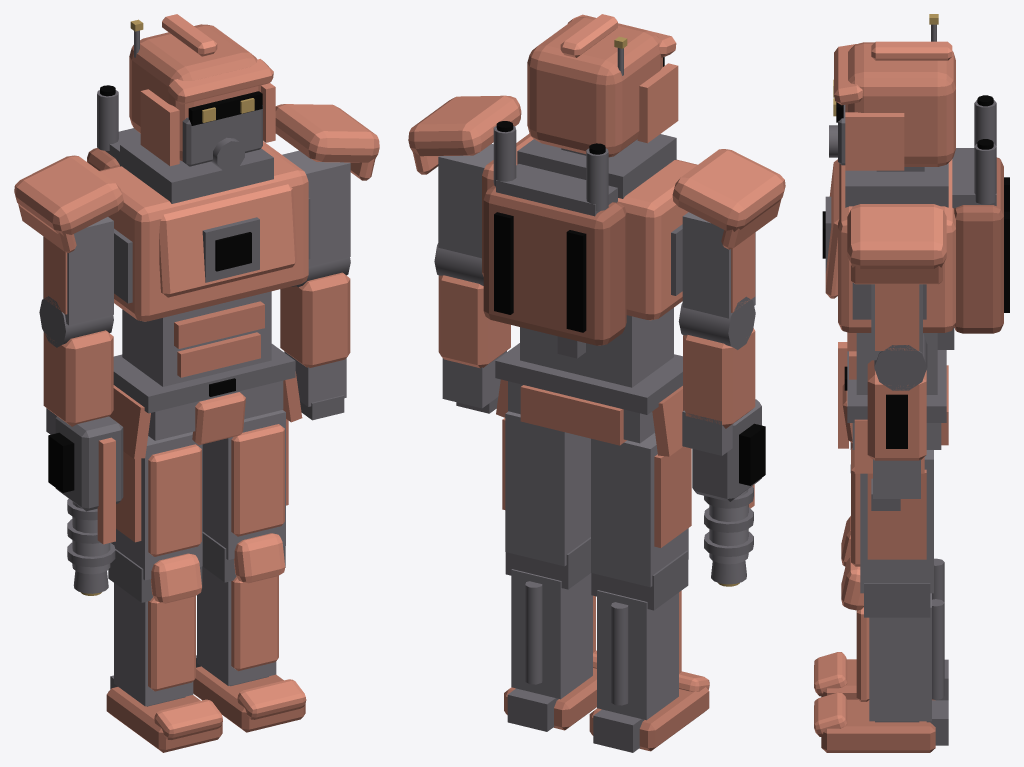
Rendered from husk.glb.
3 views of the same model, side by side, from view 1: azimuth 30°, elevation 25°; view 2: azimuth 150°, elevation 25°; view 3: azimuth 270°, elevation 25° (orthographic). The views are drawn at different scales.
Visible parts, largest first — view 1: husk.008, husk*1.08, husk*0.009, husk*0.014, husk.013, husk*0.011, husk.004, husk.001, gunmetal*1.006, gunmetal.012, husk.012, gunmetal.008 (+46 smaller); view 2: husk*0.6, husk*0.009, gunmetal*1.3, gunmetal*1.002, husk.008, gunmetal*1.001, gunmetal*1.004, gunmetal*1.006, husk.013, husk*0.014, gunmetal.008, husk.012 (+36 smaller); view 3: husk*0.009, gunmetal*1.001, husk*0.6, husk.012, husk.008, husk*0.7, gunmetal.012, husk*0.85, gunmetal*1.3, husk*0.011, husk.010, husk*0.9 (+33 smaller).
Part boxes in pixels (box(x1,y1,x2,y2)): husk.008: box(99, 141, 308, 321); husk*1.08: box(159, 184, 297, 297); husk*0.009: box(129, 24, 260, 160); husk*0.014: box(43, 330, 113, 426); husk.013: box(14, 155, 123, 235); husk*0.011: box(280, 272, 350, 367); husk.004: box(148, 444, 201, 556); husk.001: box(231, 424, 284, 536); gunmetal*1.006: box(122, 291, 271, 386); gunmetal.012: box(120, 140, 273, 203); husk.012: box(275, 104, 379, 162); gunmetal.008: box(113, 344, 295, 413); husk*0.6: box(483, 185, 626, 345); husk*0.009: box(527, 16, 662, 157); gunmetal*1.3: box(505, 411, 590, 566); gunmetal*1.002: box(591, 433, 688, 587); husk.008: box(482, 133, 697, 320); gunmetal*1.001: box(511, 569, 592, 699); gunmetal*1.004: box(597, 590, 678, 720); gunmetal*1.006: box(520, 308, 673, 387); husk.013: box(672, 149, 785, 231); husk*0.014: box(683, 328, 755, 428); gunmetal.008: box(495, 343, 682, 414); husk.012: box(408, 95, 521, 156); husk*0.009: box(845, 42, 955, 166); gunmetal*1.001: box(869, 593, 931, 721); husk*0.6: box(954, 157, 1003, 333); husk.012: box(847, 204, 946, 268); husk.008: box(838, 159, 955, 332); husk*0.7: box(821, 699, 935, 752); gunmetal.012: box(845, 163, 948, 207); husk*0.85: box(867, 469, 926, 559); gunmetal*1.3: box(860, 450, 933, 593); husk*0.011: box(867, 360, 926, 460); husk.010: box(845, 112, 904, 170); husk*0.9: box(875, 284, 919, 350).
Size of the model in its own units: 1.02 by 2.05 by 0.531.
